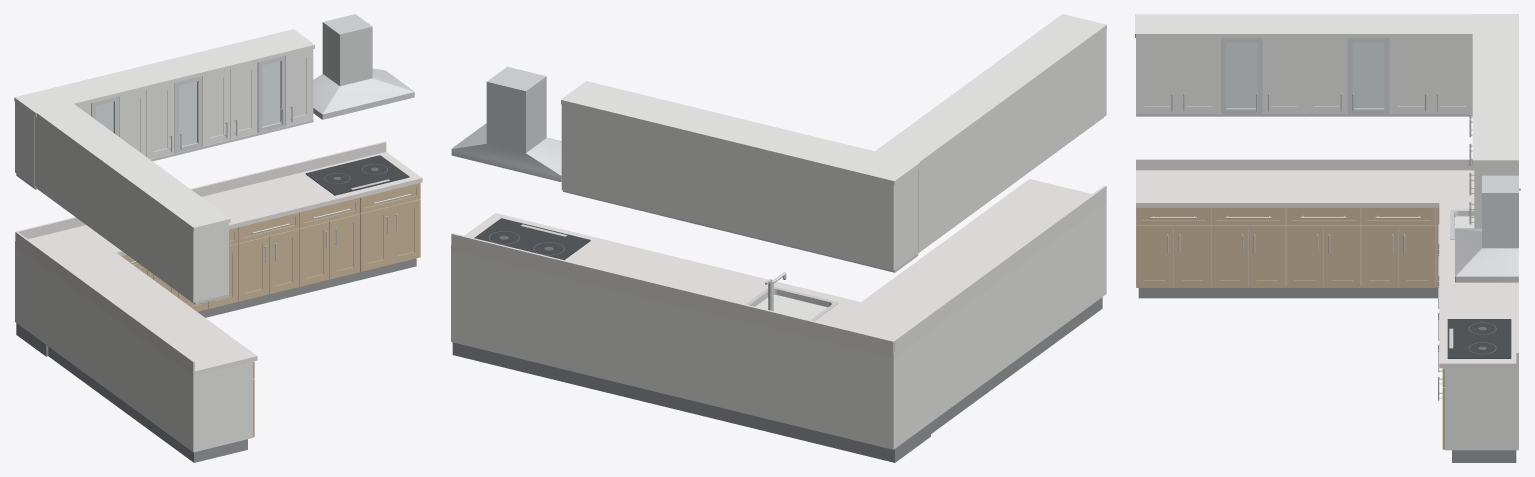
3 views of the same model, side by side, from view 1: azimuth 30°, elevation 25°; view 2: azimuth 150°, elevation 25°; view 3: azimuth 270°, elevation 25° (orthographic). The views are drawn at different scales.
Parts seen in each view (by area): view 1: Tủ bếp chữ L Dài cạnh chính=3600; Dài cạnh phụ=3000; Sâu tủ ; view 2: Tủ bếp chữ L Dài cạnh chính=3600; Dài cạnh phụ=3000; Sâu tủ ; view 3: Tủ bếp chữ L Dài cạnh chính=3600; Dài cạnh phụ=3000; Sâu tủ .
Part boxes in pixels (x1,y1,x2,y2): Tủ bếp chữ L Dài cạnh chính=3600; Dài cạnh phụ=3000; Sâu tủ : [14, 14, 422, 462]; Tủ bếp chữ L Dài cạnh chính=3600; Dài cạnh phụ=3000; Sâu tủ : [451, 14, 1106, 462]; Tủ bếp chữ L Dài cạnh chính=3600; Dài cạnh phụ=3000; Sâu tủ : [1135, 14, 1520, 462].
Size of the model in its own units: 3.61 by 2.2 by 3.02.
